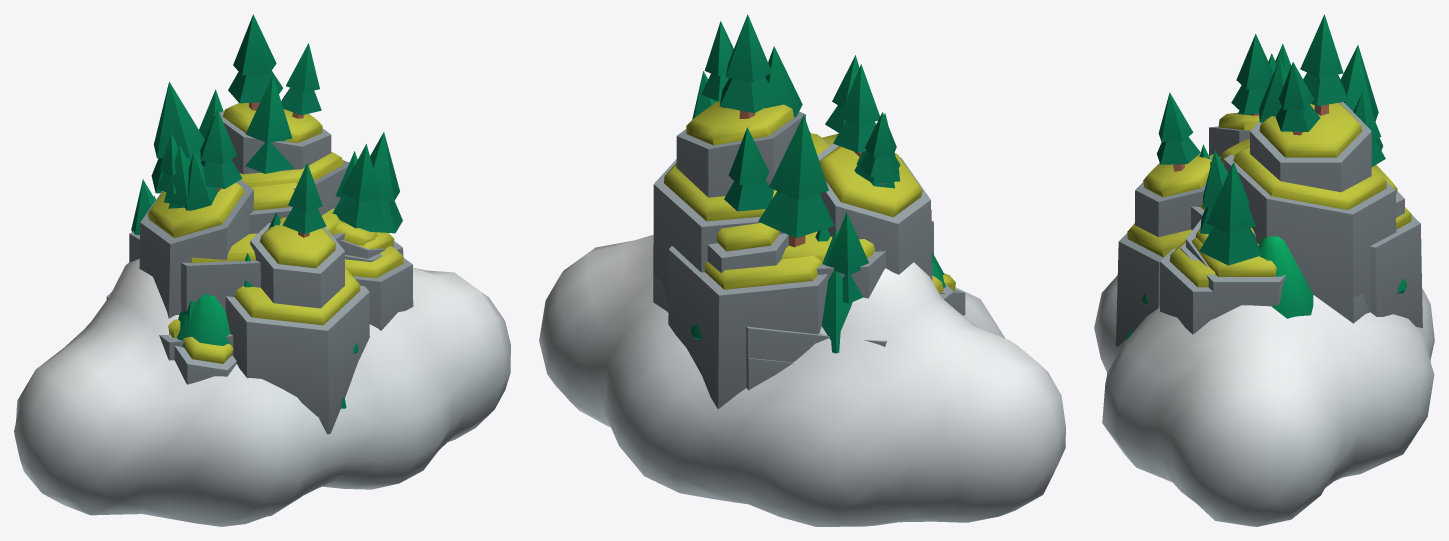
File: nature.glb
3 views of the same model, side by side, from view 1: azimuth 30°, elevation 25°; view 2: azimuth 150°, elevation 25°; view 3: azimuth 270°, elevation 25° (orthographic). The views are drawn at different scales.
Visible parts, largest first — view 1: cloud_big, mountain_C_grass_trees, mountain_A_grass_trees, mountain_B_grass_trees, trees_B_medium; view 2: cloud_big, mountain_C_grass_trees, mountain_B_grass_trees, mountain_A_grass_trees, hills_C_trees; view 3: cloud_big, mountain_B_grass_trees, mountain_C_grass_trees, mountain_A_grass_trees, trees_B_medium.
Boxes of the visible parts, box(x1,y1,x2,y2) form: cloud_big: box(14, 259, 510, 526); mountain_C_grass_trees: box(139, 89, 386, 434); mountain_A_grass_trees: box(129, 75, 413, 330); mountain_B_grass_trees: box(106, 14, 403, 360); trees_B_medium: box(177, 293, 358, 353); cloud_big: box(539, 234, 1065, 526); mountain_C_grass_trees: box(668, 55, 965, 409); mountain_B_grass_trees: box(653, 14, 954, 389); mountain_A_grass_trees: box(654, 46, 931, 390); hills_C_trees: box(821, 229, 852, 353); cloud_big: box(1094, 275, 1434, 526); mountain_B_grass_trees: box(1180, 14, 1396, 323); mountain_C_grass_trees: box(1116, 34, 1422, 346); mountain_A_grass_trees: box(1160, 45, 1382, 334); trees_B_medium: box(1142, 236, 1406, 318).
Bounding box in the file's own units: 3.61 × 3.41 × 2.24.
Materials: 1 (1 with a texture image).
